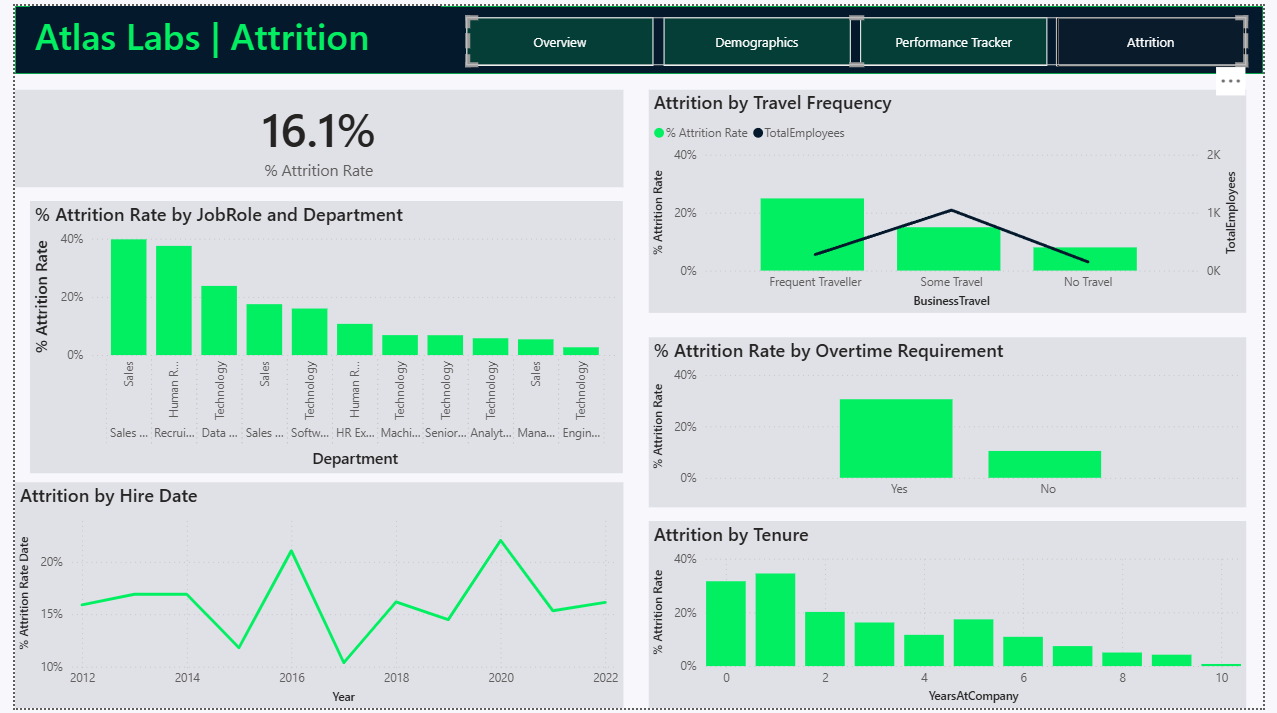

What the dashboard file says about the page in this screenshot:
{"tool":"powerbi","page":{"name":"Attrition","canvas":[1280,720],"ordinal":3},"visuals":[{"type":"card","fields":{"Values":["_Measures.% Attrition Rate"]},"box":[0,85.6,623.6,100.3],"z":0},{"type":"columnChart","fields":{"Category":["DimEmployee.JobRole","DimEmployee.Department"],"Y":["_Measures.% Attrition Rate"]},"box":[15.9,200.5,607.7,278.8],"z":1000},{"type":"lineChart","title":"Attrition by Hire Date ","fields":{"Y":["_Measures.% Attrition Rate Date"],"Category":["DimDate.Date.Variation.Date Hierarchy.Year","DimDate.Date.Variation.Date Hierarchy.Quarter","DimDate.Date.Variation.Date Hierarchy.Month","DimDate.Date.Variation.Date Hierarchy.Day"]},"box":[0,487.9,623.6,232.3],"z":2000},{"type":"lineStackedColumnComboChart","title":"Attrition by Travel Frequency","fields":{"Category":["DimEmployee.BusinessTravel"],"Y":["_Measures.% Attrition Rate"],"Y2":["_Measures.TotalEmployees"]},"box":[650.5,85.6,612.6,228.7],"z":3000},{"type":"columnChart","title":"% Attrition Rate by Overtime Requirement","fields":{"Y":["_Measures.% Attrition Rate"],"Category":["DimEmployee.OverTime"]},"box":[650.5,335.1,612.6,173.6],"z":4000},{"type":"clusteredColumnChart","title":"Attrition by Tenure","fields":{"Y":["_Measures.% Attrition Rate"],"Category":["DimEmployee.YearsAtCompany"]},"box":[650.5,528.3,612.6,192],"z":5000},{"type":"shape","box":[0,0,1280.3,69.7],"z":6000},{"type":"textbox","box":[15.9,0,421.9,61.1],"z":7000},{"type":"pageNavigator","box":[463.5,11,799.7,50.1],"z":8000}]}

Visuals, with their boxes in screenshot pixels (x1, y1, x2, y2), scaled from the page's 1280x720 canvas onto the 1277x713 screenshot:
card - _Measures.% Attrition Rate: (0,85,622,184)
columnChart - DimEmployee.JobRole x DimEmployee.Department: (16,199,622,475)
"Attrition by Hire Date " lineChart: (0,483,622,712)
"Attrition by Travel Frequency" lineStackedColumnComboChart: (649,85,1260,311)
"% Attrition Rate by Overtime Requirement" columnChart: (649,332,1260,504)
"Attrition by Tenure" clusteredColumnChart: (649,523,1260,712)
shape: (0,0,1276,69)
textbox: (16,0,437,61)
pageNavigator: (462,11,1260,61)
